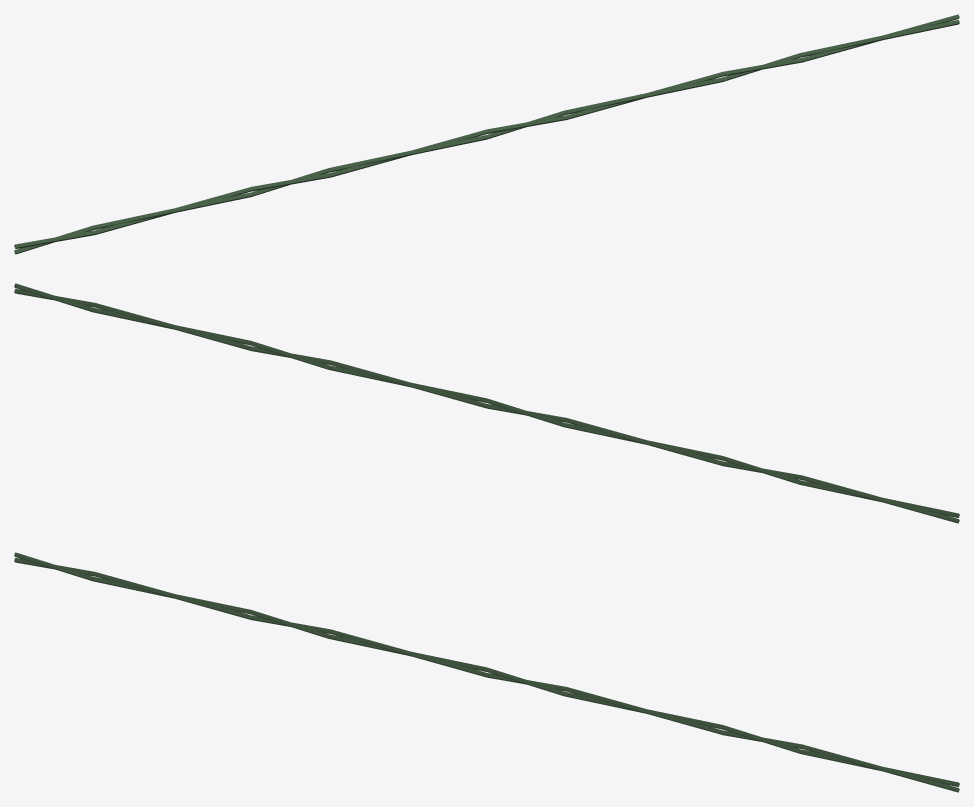
Rendered from lp_wire.glb.
3 views of the same model, one above another, from view 1: azimuth 30°, elevation 25°; view 2: azimuth 150°, elevation 25°; view 3: azimuth 330°, elevation 25° (orthographic).
Parts seen in each view (by area): view 1: lp_wire; view 2: lp_wire; view 3: lp_wire.
Part boxes in pixels (x1,y1,x2,y2): lp_wire: [14, 14, 959, 254]; lp_wire: [14, 283, 959, 523]; lp_wire: [14, 552, 959, 792].
Size of the model in its own units: 1 by 0.0104 by 0.00965.
